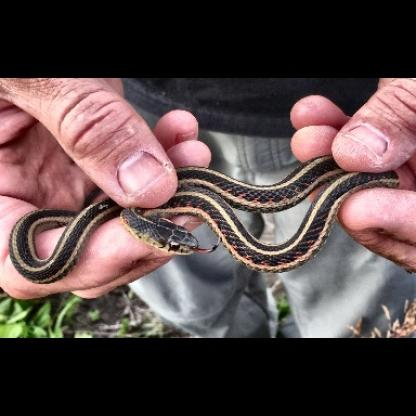Snake: (8, 151, 412, 283)
